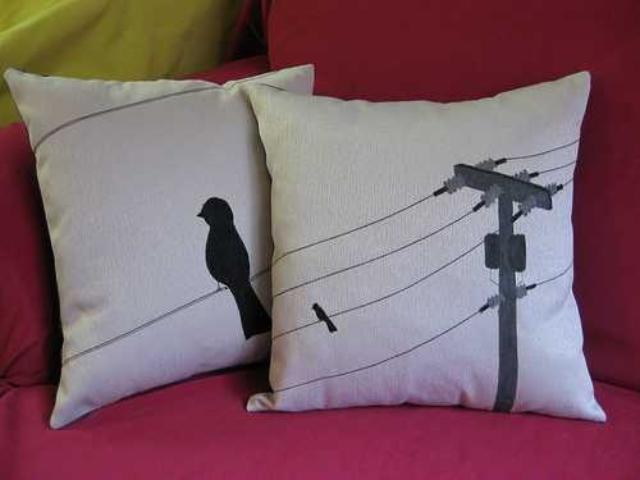pillow: (239, 68, 606, 422), (2, 60, 314, 430)
